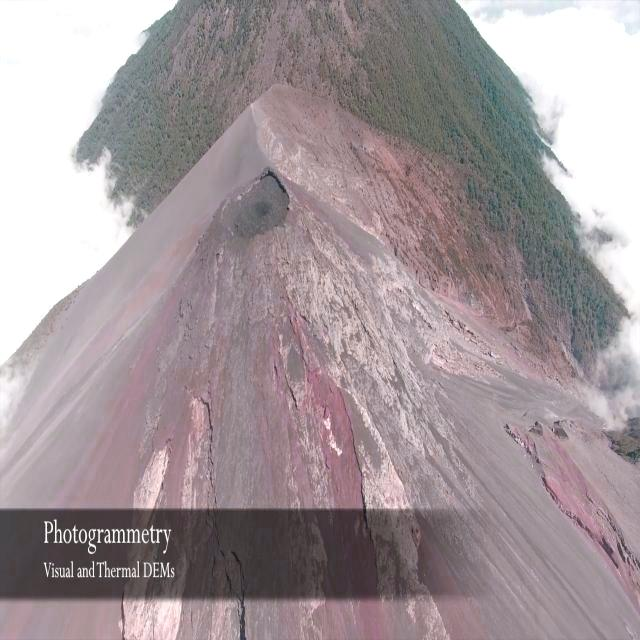Summit: (92, 152, 512, 508)
